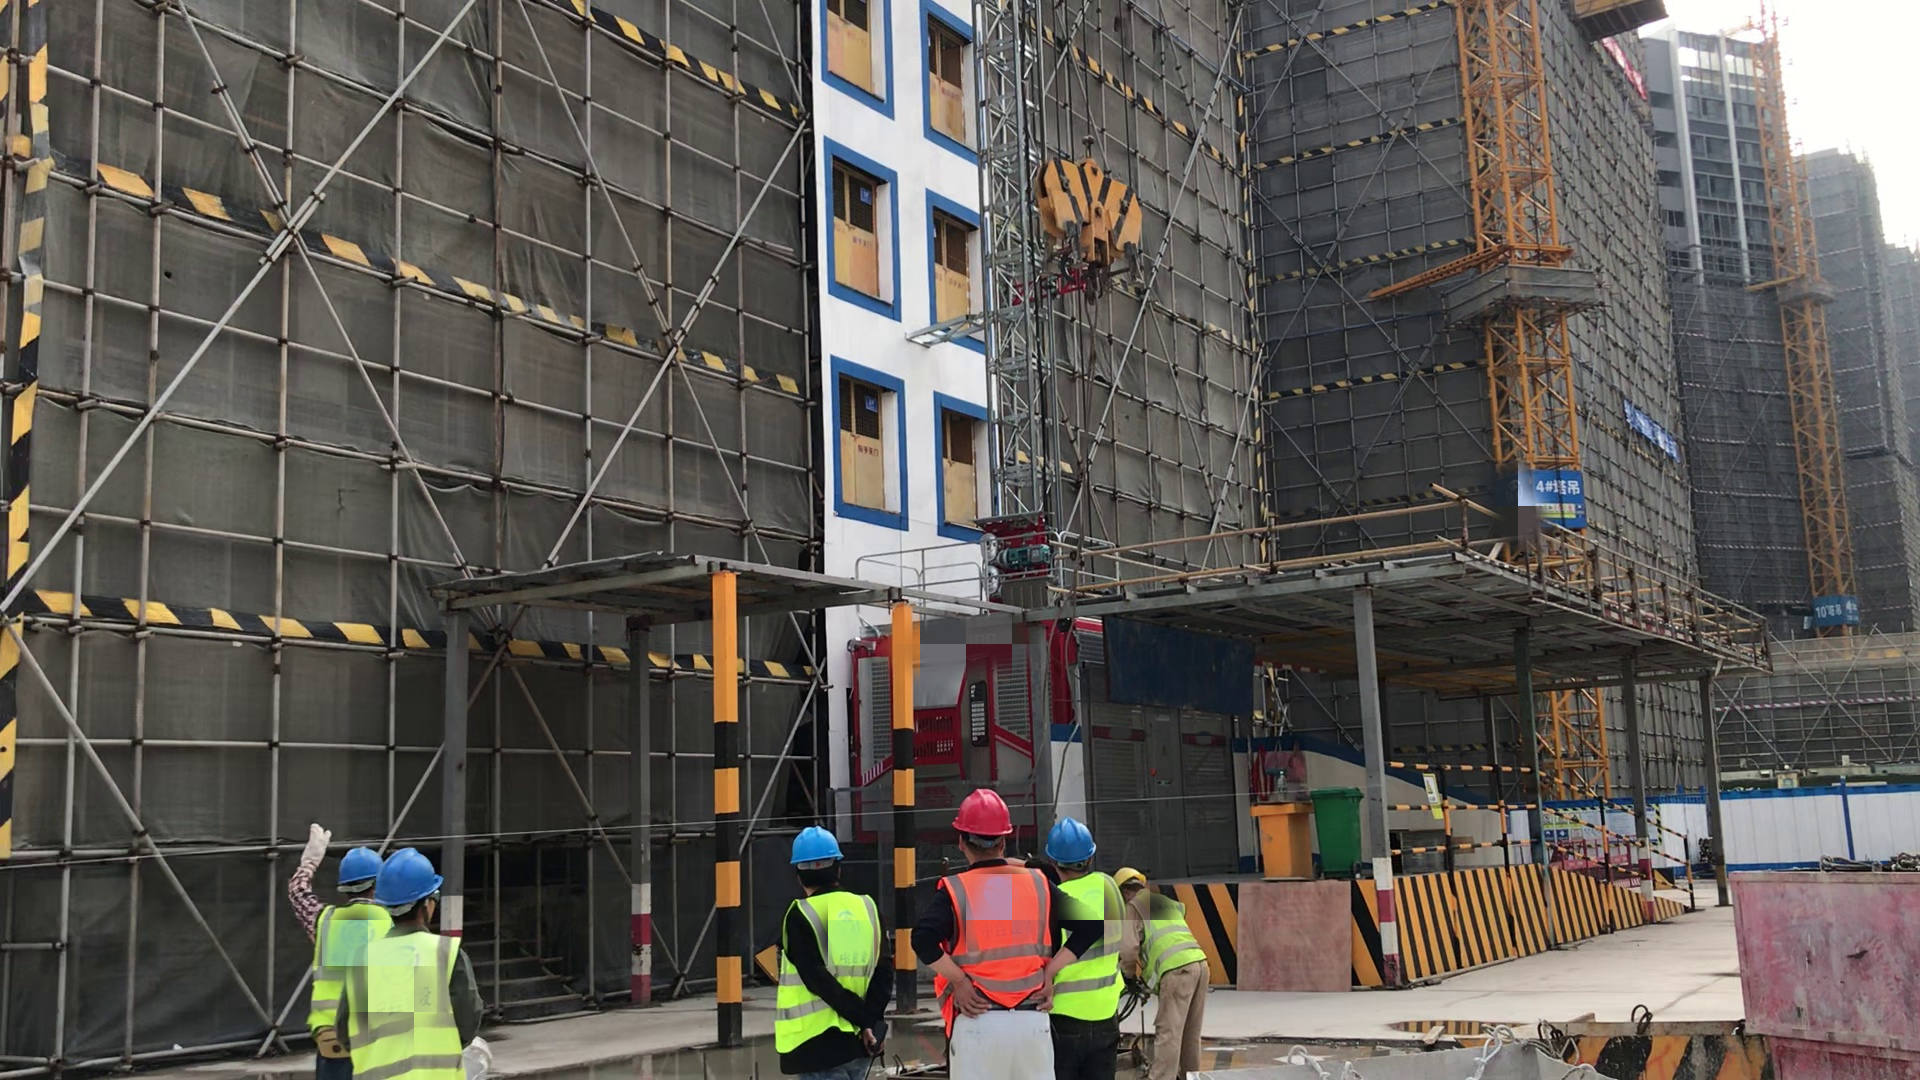fence: (1367, 732, 1708, 921)
helmet: (379, 851, 456, 908), (948, 789, 1022, 844), (1044, 814, 1101, 871), (782, 825, 851, 872), (335, 839, 381, 892), (1114, 856, 1153, 893)
hook: (1025, 143, 1149, 314)
person: (914, 790, 1066, 1080), (346, 851, 500, 1080), (778, 823, 886, 1080), (301, 822, 401, 1080), (1119, 869, 1220, 1080), (1040, 820, 1118, 1080)
vest: (924, 861, 1058, 1028), (774, 893, 884, 1071), (344, 930, 465, 1080), (1055, 872, 1132, 1041), (311, 900, 392, 1055), (1124, 890, 1217, 985)
